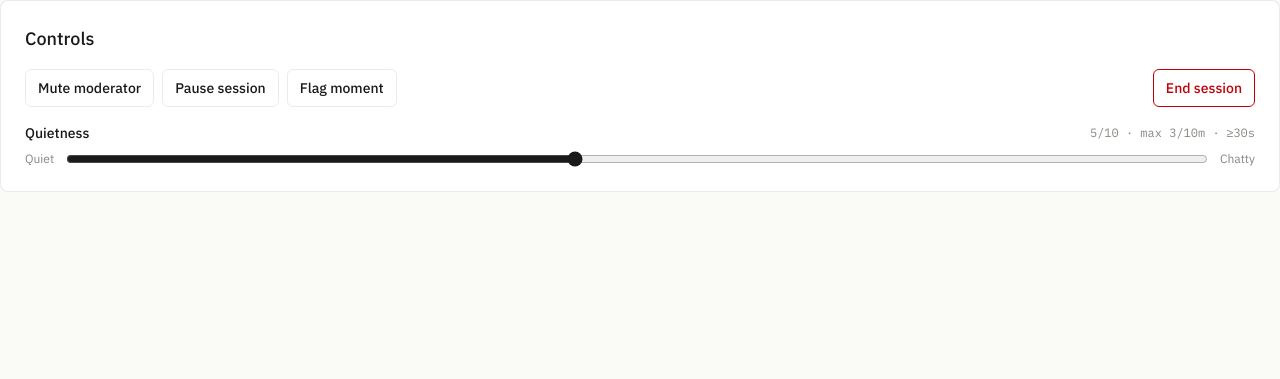
Test: <ControlBar /> — flag moment › reveals the note field, posts flag_moment with the trimmed note, and resets
Click the button "Flag moment" at (342, 88), box x1=287 y1=69 x2=397 y2=107
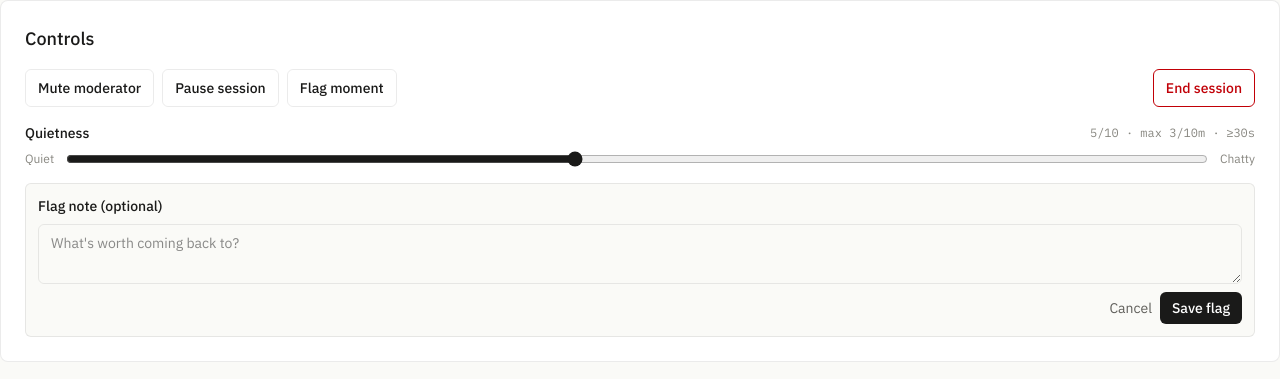
Type "   interesting cross-talk   " into the text box labelled "Flag note (optional)" at (640, 254), box x1=38 y1=224 x2=1242 y2=284
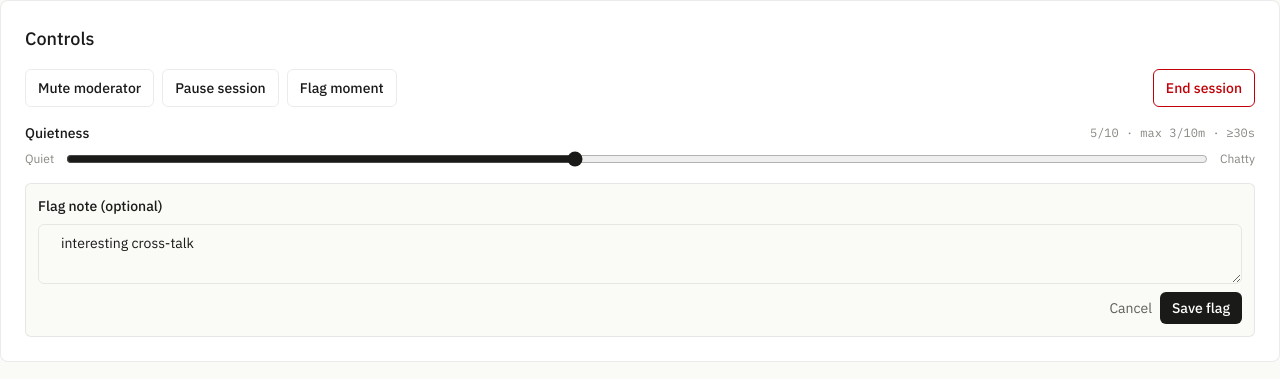
Click the button "Save flag" at (1201, 308), box x1=1160 y1=292 x2=1242 y2=324
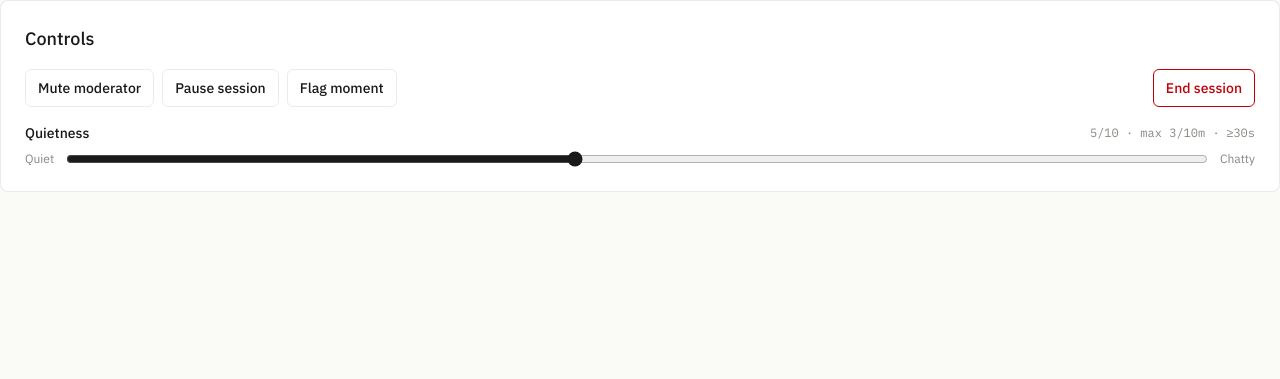
Result: the label labelled "Flag note" is gone
